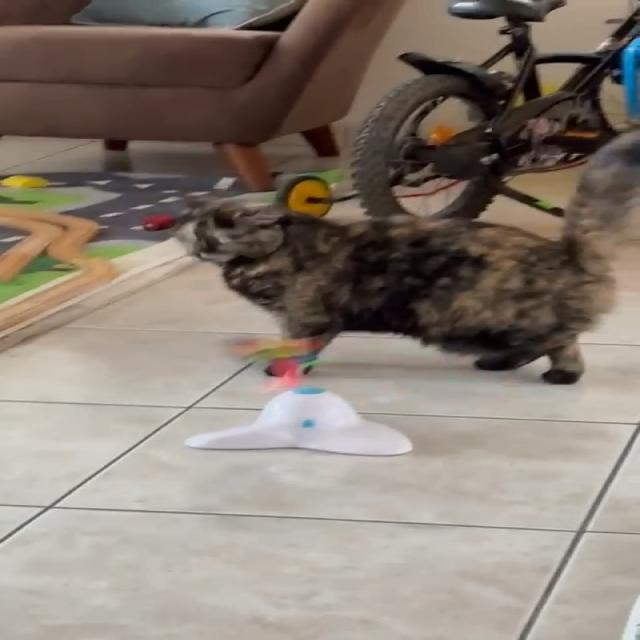authorized: (174, 128, 638, 384)
